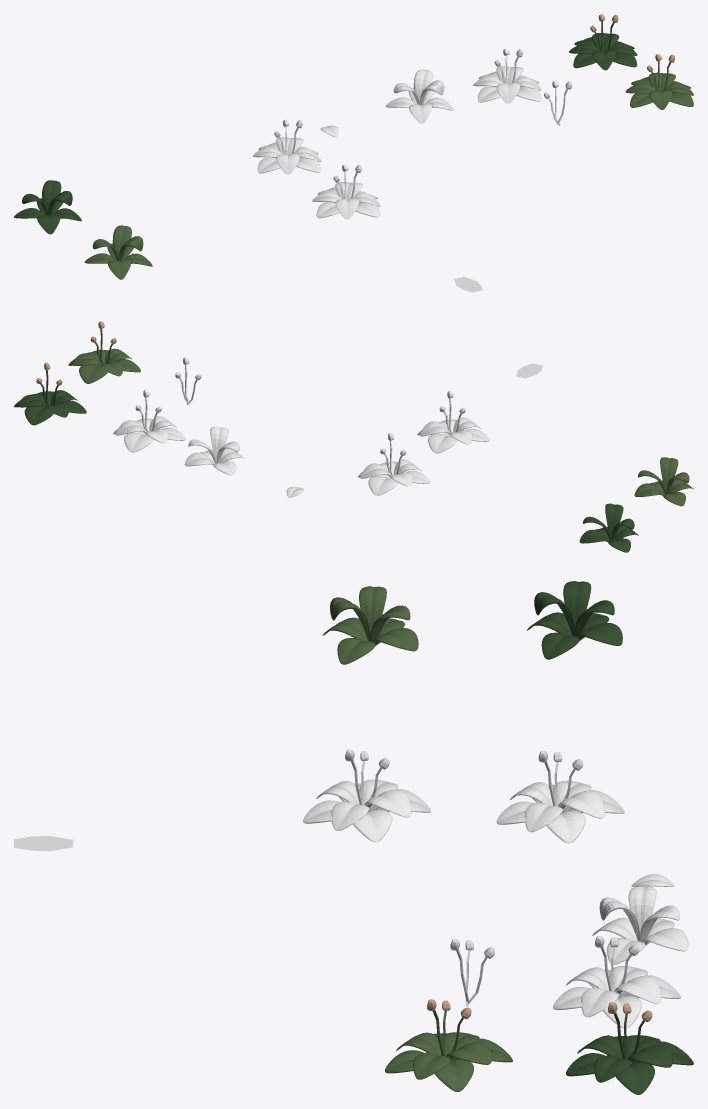
File: plants.fbx
3 views of the same model, one above another, from view 1: azimuth 30°, elevation 25°; view 2: azimuth 150°, elevation 25°; view 3: azimuth 270°, elevation 25° (orthographic). The views are drawn at different scales.
Visible parts, largest first — view 1: Plane.011, Plane.018, Plane.031, Plane.030, Plane.017, Plane.010; view 2: Plane.031, Plane.011, Plane.018, Plane.030, Plane.010, Plane.017, Plane.022, Plane.003; view 3: Plane.018, Plane.030, Plane.017, Plane.010, Plane.011, Plane.031, Plane.004, Plane.014, Plane, Plane.020.
Boxes of the visible parts, x1,y1,x2,y2 form: Plane.011: (14, 180, 81, 234); Plane.018: (253, 137, 321, 174); Plane.031: (84, 225, 152, 279); Plane.030: (312, 182, 380, 219); Plane.017: (569, 33, 637, 70); Plane.010: (625, 72, 693, 109); Plane.031: (634, 457, 693, 506); Plane.011: (579, 503, 638, 552); Plane.018: (358, 459, 430, 495); Plane.030: (417, 417, 489, 453); Plane.010: (68, 348, 140, 383); Plane.017: (14, 390, 86, 425); Plane.022: (124, 432, 153, 452); Plane.003: (210, 426, 228, 463); Plane.018: (496, 780, 624, 843); Plane.030: (303, 779, 430, 842); Plane.017: (566, 1035, 693, 1094); Plane.010: (385, 1032, 512, 1091); Plane.011: (527, 581, 622, 659); Plane.031: (322, 586, 418, 664); Plane.004: (628, 886, 656, 933); Plane.014: (614, 976, 661, 1004); Plane: (14, 836, 73, 851); Plane.020: (581, 988, 619, 1017).
Size of the model in its own units: 69.63 by 6.58 by 40.76.
